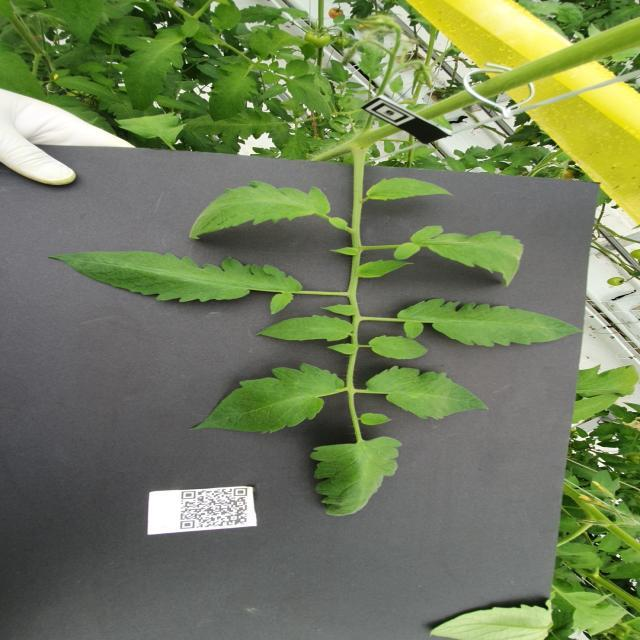Tomato healthy leaf: (47, 251, 303, 315), (188, 361, 346, 434), (394, 298, 582, 347), (188, 180, 332, 240), (392, 225, 524, 288), (309, 436, 402, 517), (364, 365, 489, 420), (122, 24, 184, 111), (207, 63, 260, 121), (253, 314, 354, 342), (284, 73, 333, 122), (575, 362, 640, 398), (366, 176, 454, 202), (56, 76, 125, 104), (570, 392, 620, 426), (367, 335, 429, 360), (358, 259, 415, 278), (209, 0, 241, 29), (318, 303, 358, 316), (284, 59, 310, 77), (325, 342, 358, 356), (360, 413, 393, 426), (388, 74, 404, 93), (345, 82, 365, 90)
